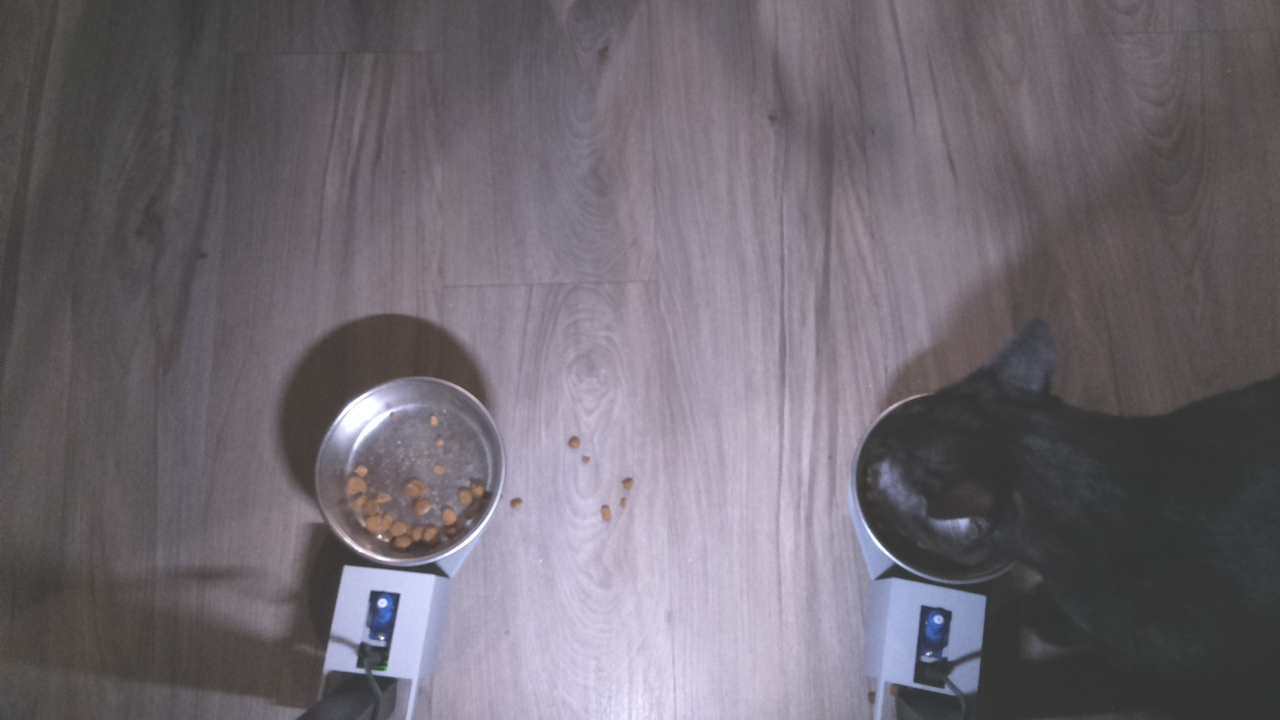open_bowl: (313, 373, 507, 571)
saki_eating: (841, 313, 1119, 599)
